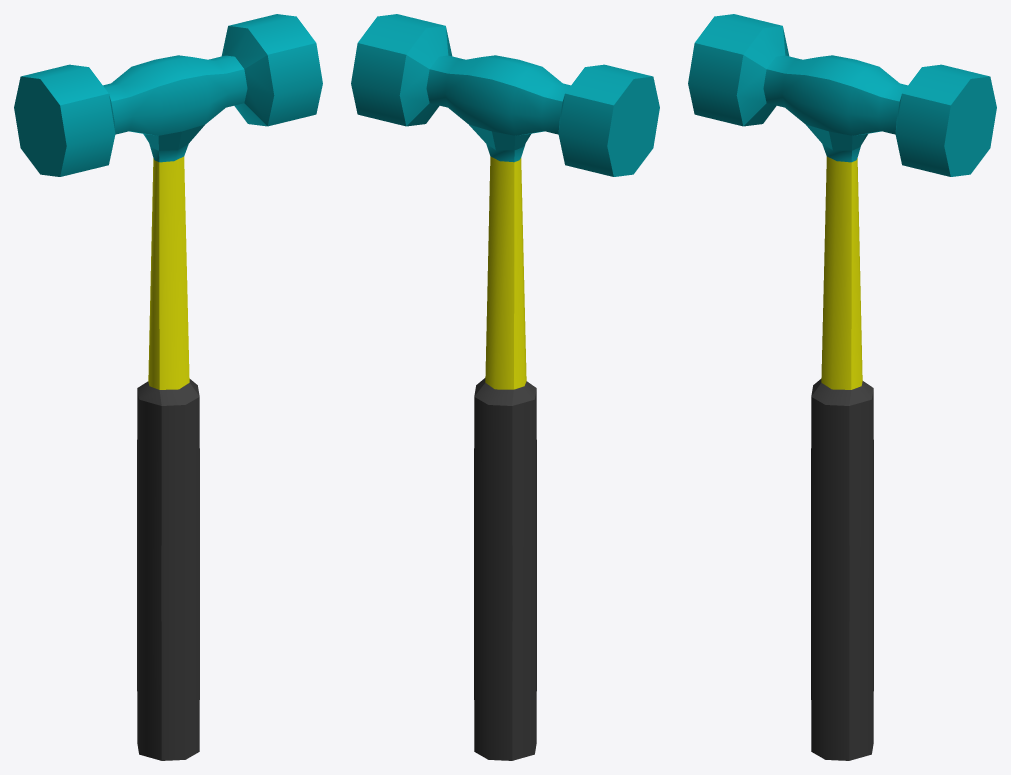
The model's file is Texture_Hammer.obj.
3 views of the same model, side by side, from view 1: azimuth 30°, elevation 25°; view 2: azimuth 150°, elevation 25°; view 3: azimuth 330°, elevation 25° (orthographic).
Visible parts, largest first — view 1: Hammermesh; view 2: Hammermesh; view 3: Hammermesh.
Boxes of the visible parts, x1,y1,x2,y2 form: Hammermesh: (14,14,322,760); Hammermesh: (351,14,659,760); Hammermesh: (688,14,996,760).
Size of the model in its own units: 6.03 by 15.74 by 2.15.
